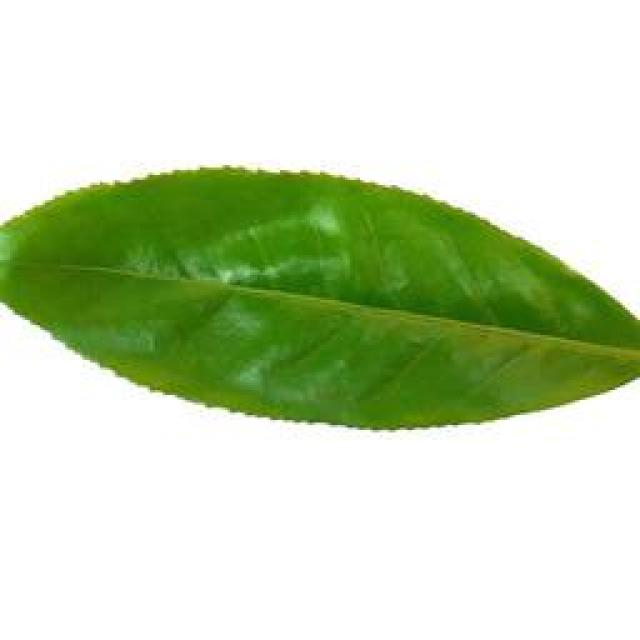Healthy: (0, 158, 639, 431)
